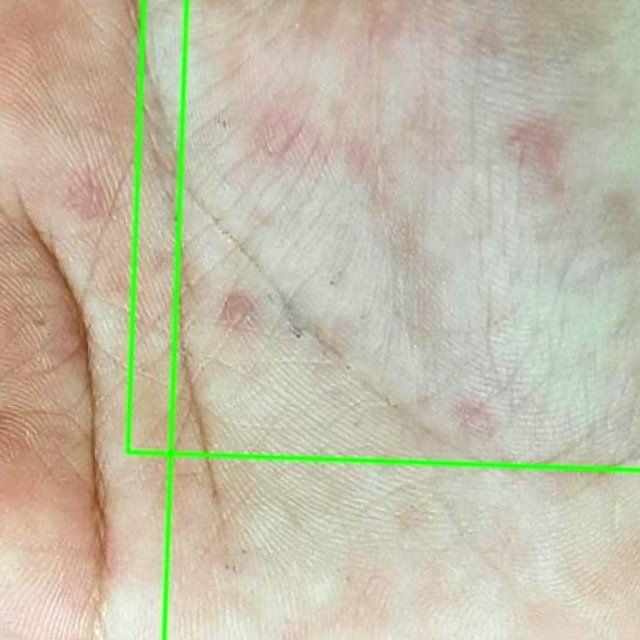Contact Dermatitis: (128, 0, 639, 470), (0, 0, 187, 639)
